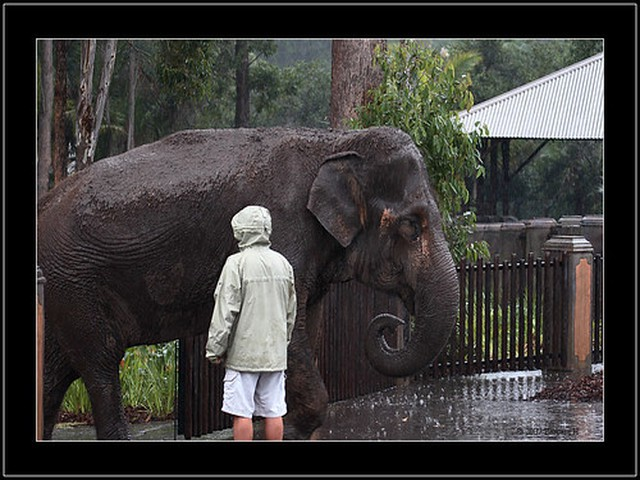Elephant: (30, 121, 458, 427)
Person: (207, 199, 304, 440)
